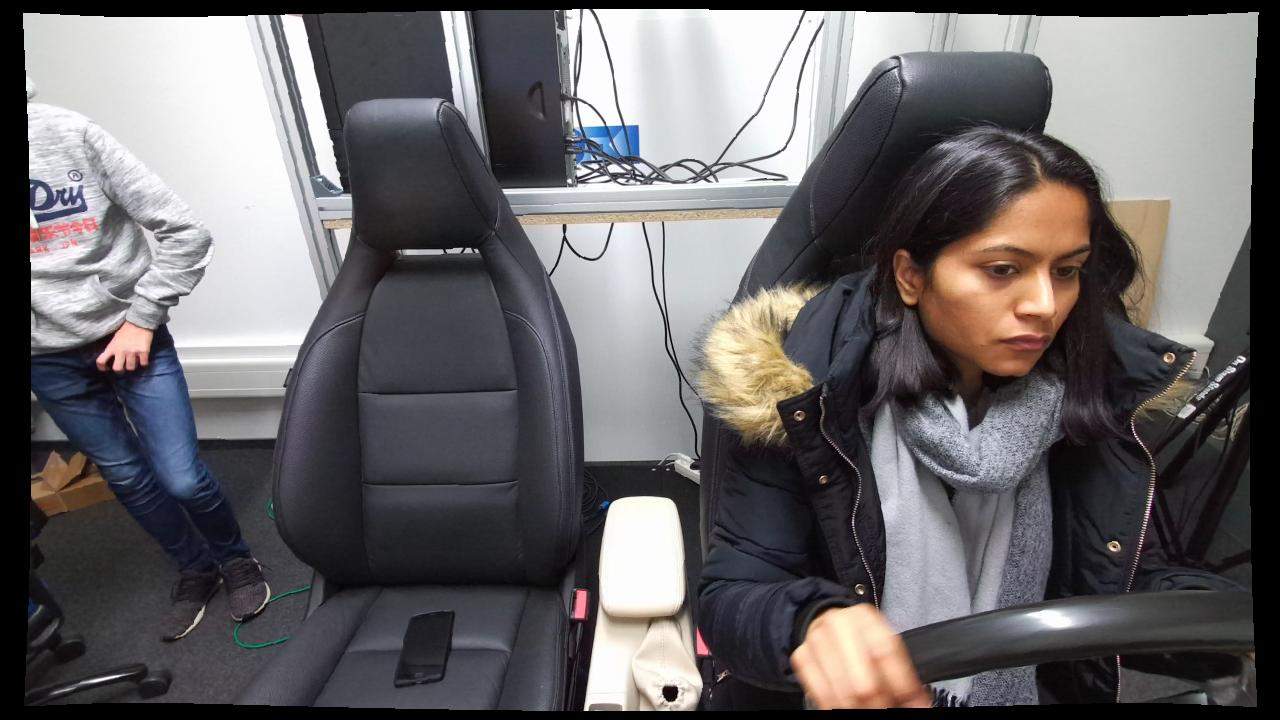SafeDriving: (701, 127, 1163, 704)
